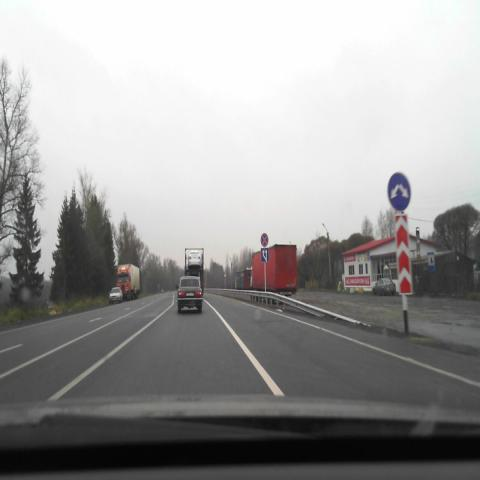4_2_3: (387, 172, 411, 211)
